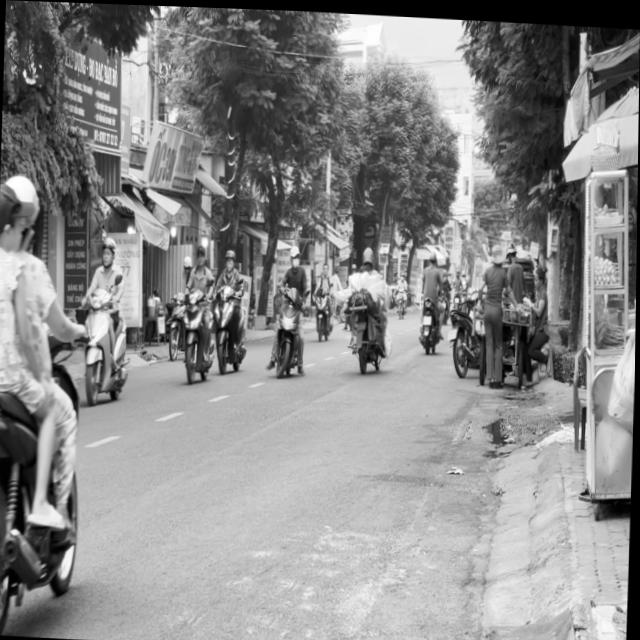helmet: (1, 171, 41, 254), (99, 232, 117, 264)
licenseplate: (0, 167, 94, 636), (76, 231, 132, 406), (179, 237, 217, 384)
motorcyclist: (0, 183, 22, 253), (192, 240, 208, 269)
